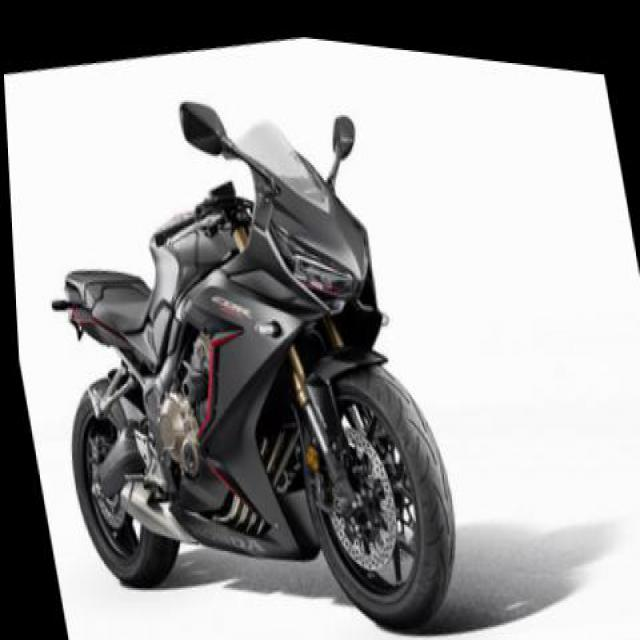CBR650R: (9, 59, 476, 638)
